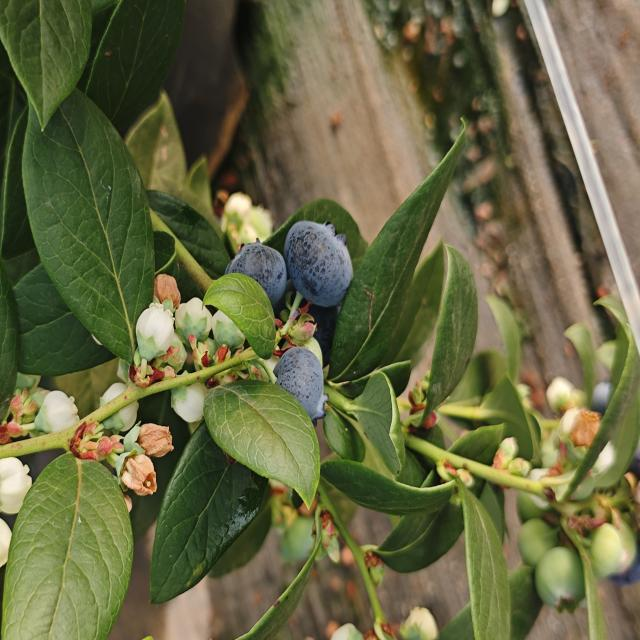ripe: (282, 217, 355, 311), (272, 344, 330, 425), (223, 238, 288, 309)
